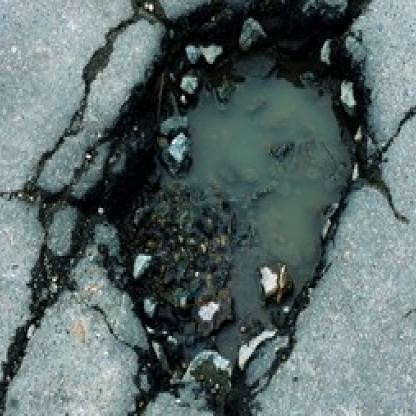pothole: (74, 0, 384, 414)
